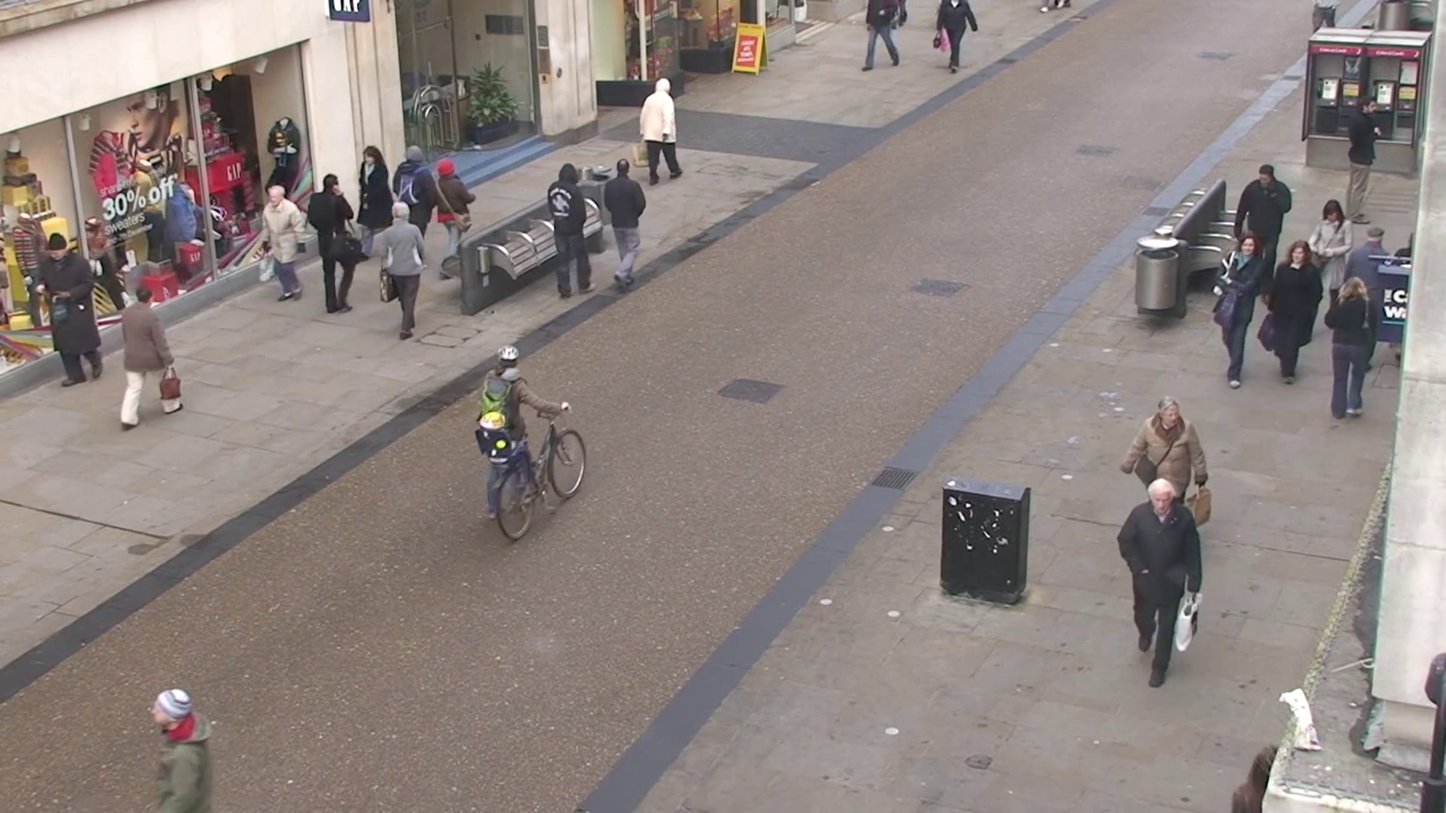person: (1115, 475, 1205, 683), (478, 344, 572, 510), (117, 693, 225, 813), (1120, 397, 1211, 527), (116, 288, 185, 432), (42, 235, 104, 387), (1212, 236, 1268, 388), (1266, 239, 1325, 382), (306, 174, 365, 315), (1325, 274, 1377, 420), (376, 205, 428, 343), (545, 164, 593, 296), (258, 179, 308, 300), (1234, 162, 1293, 263), (603, 159, 648, 288), (636, 75, 680, 184), (430, 158, 475, 261), (356, 145, 394, 243), (859, 2, 908, 71)
